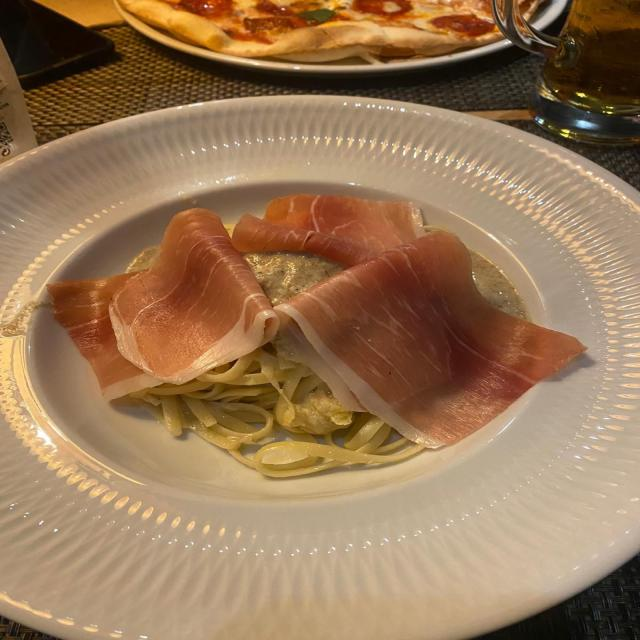ham: (47, 194, 585, 448)
pasta: (120, 335, 422, 478), (245, 253, 340, 305)
plate: (0, 96, 639, 640)
